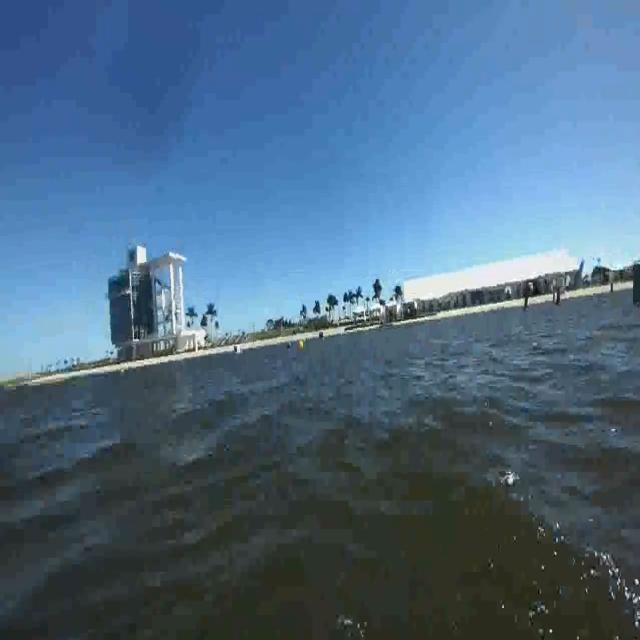yellow-buoy: (297, 339, 304, 352)
